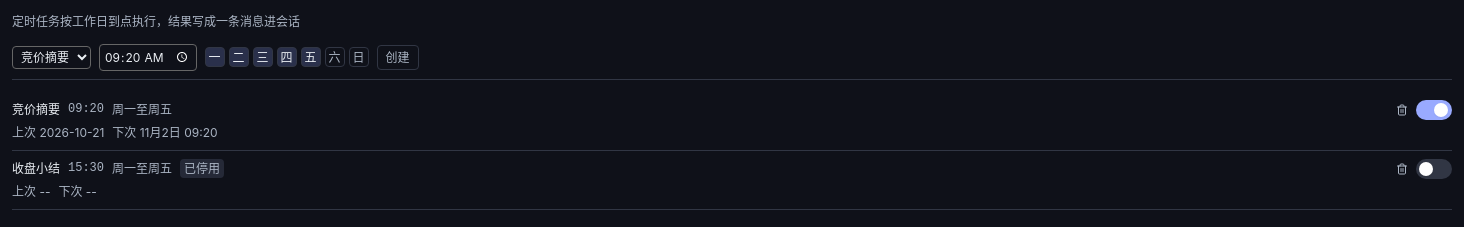
Test: SchedulePanel › 新建：时间不是 HH:MM 时不发请求
The width and height of the screenshot is (1464, 227).
Check: the number of list items with test id "schedule-row" is 2, box x1=12 y1=92 x2=1452 y2=151; x1=12 y1=151 x2=1452 y2=210
Replace the text in the time field with test id "schedule-time-input" with "25:99" at point(148, 57), box x1=99 y1=44 x2=197 y2=71
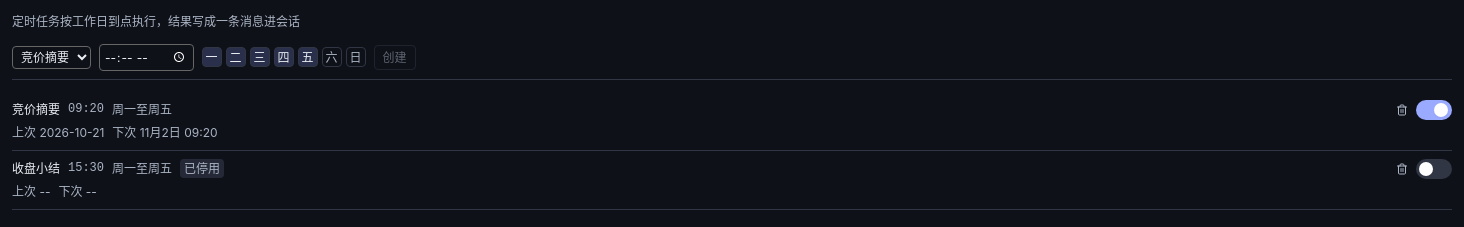
Check: the time field with test id "schedule-time-input" is empty, box x1=99 y1=44 x2=194 y2=71
Check: the button with test id "schedule-create-btn" is disabled, box x1=374 y1=44 x2=416 y2=70
